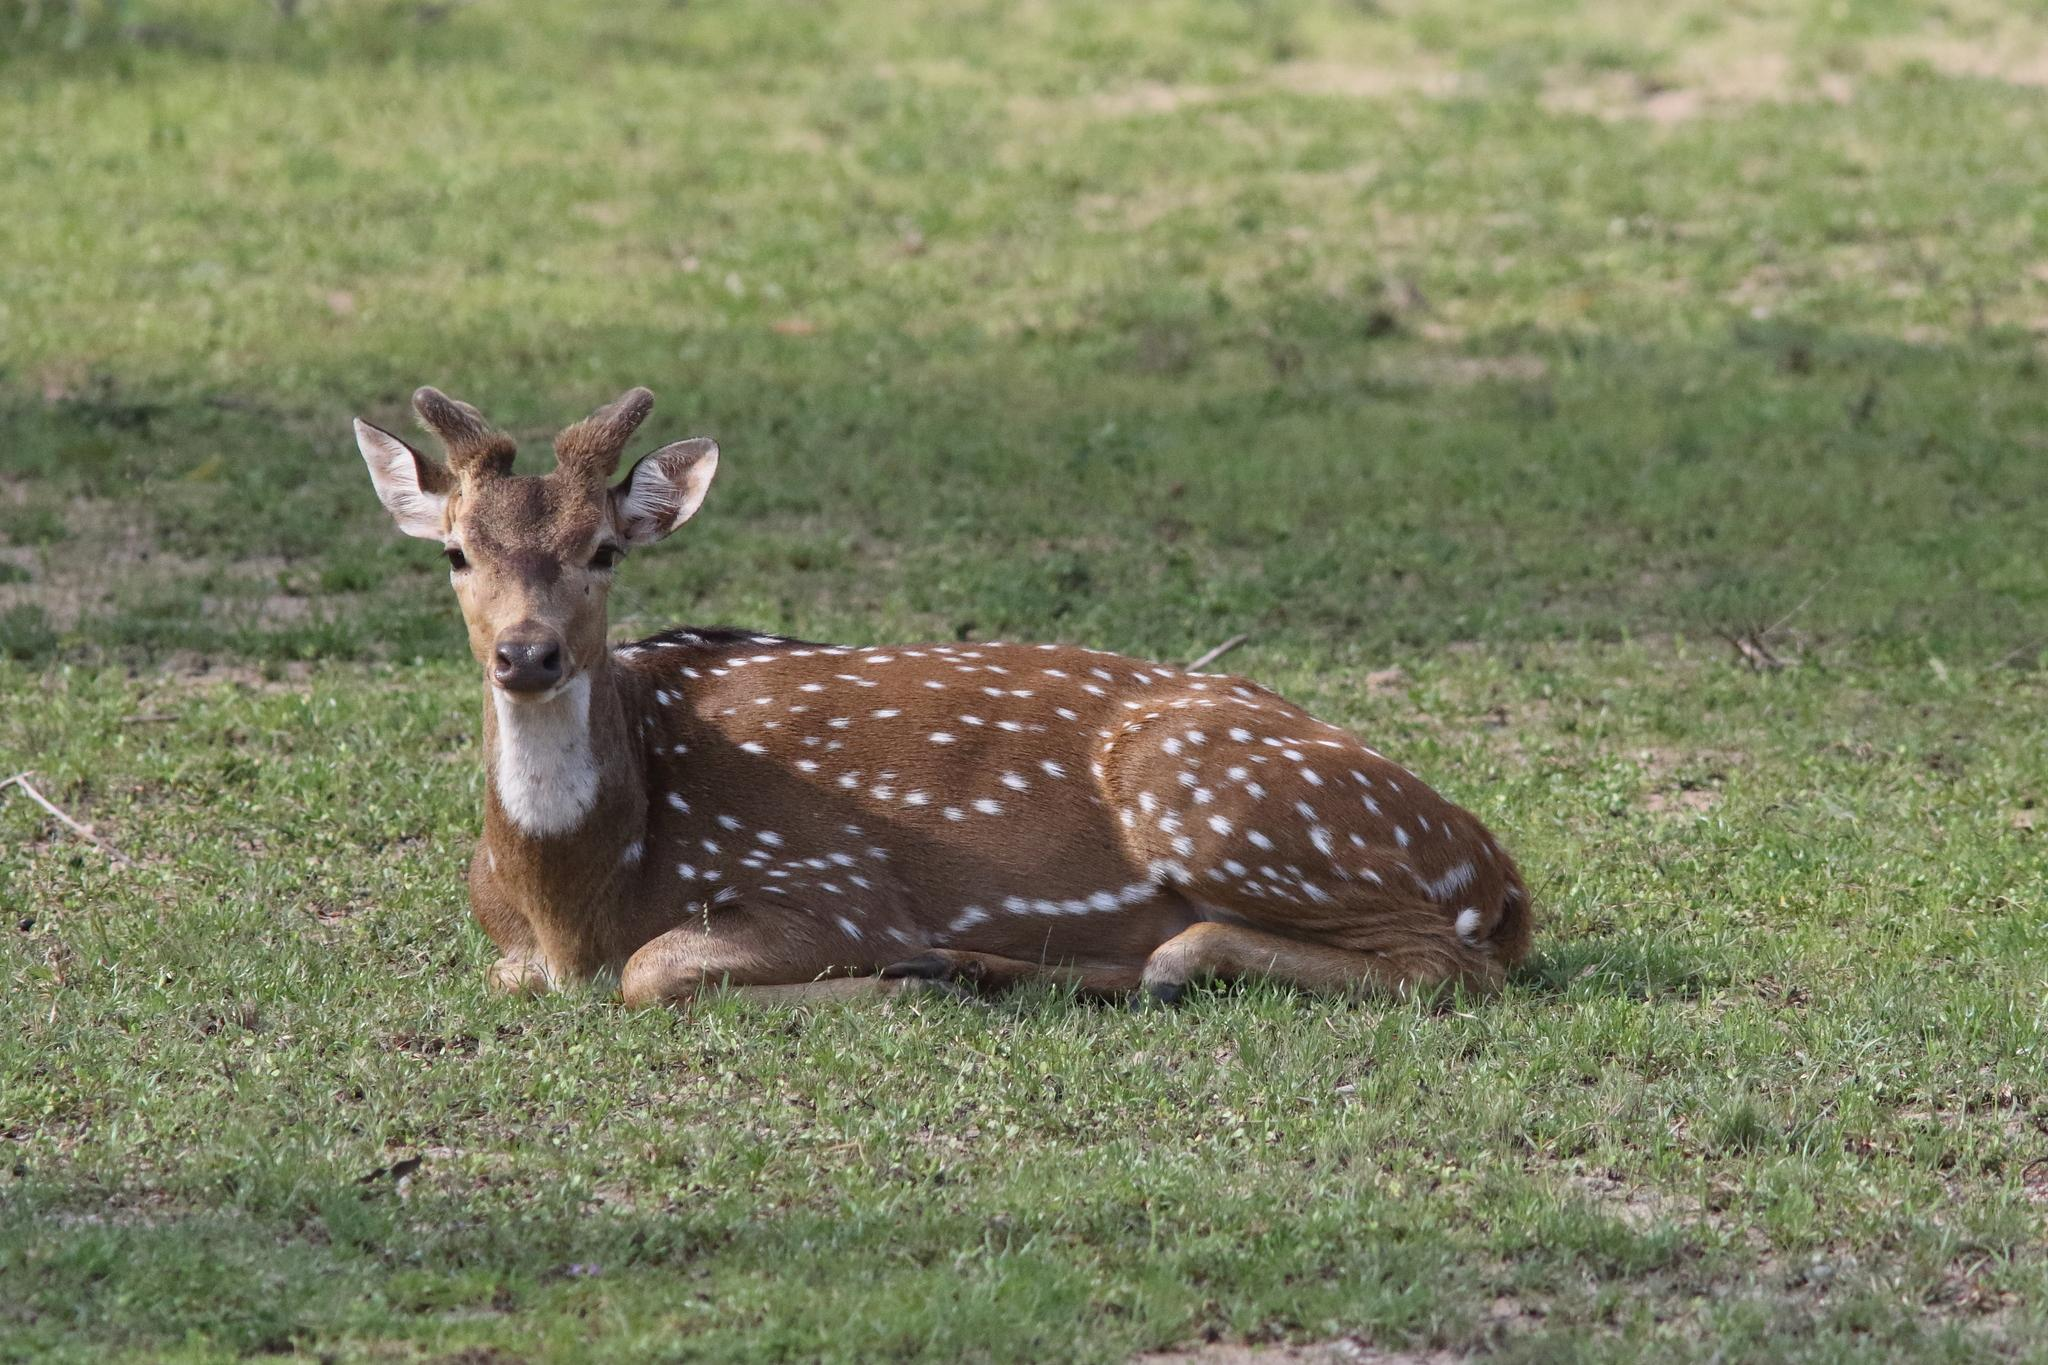Deer: (355, 387, 1527, 1004)
